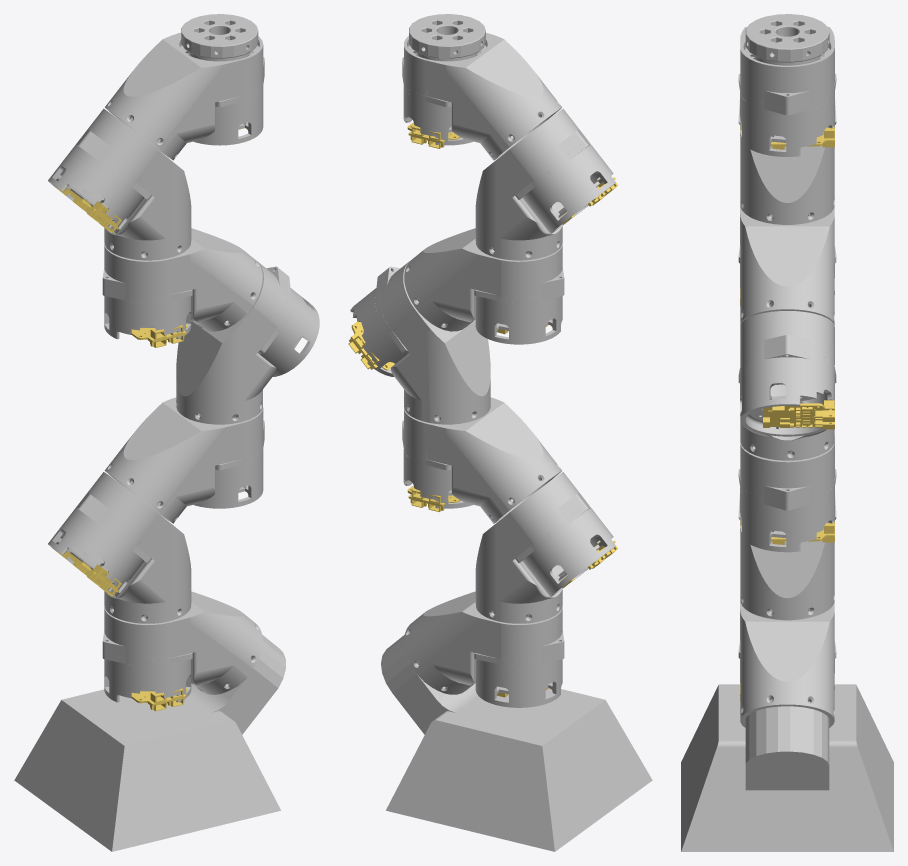
The model's file is 7DOF_robot_arm_45_degrees.glb.
3 views of the same model, side by side, from view 1: azimuth 30°, elevation 25°; view 2: azimuth 150°, elevation 25°; view 3: azimuth 270°, elevation 25° (orthographic). The views are drawn at different scales.
Parts seen in each view (by area): view 1: 7DOF_45degree glb; view 2: 7DOF_45degree glb; view 3: 7DOF_45degree glb.
Part boxes in pixels (bbox=[...]): 7DOF_45degree glb: bbox=[14, 14, 319, 851]; 7DOF_45degree glb: bbox=[348, 14, 652, 851]; 7DOF_45degree glb: bbox=[681, 14, 893, 851].
Bounding box in the file's own units: 23.79 × 66.3 × 15.71.
